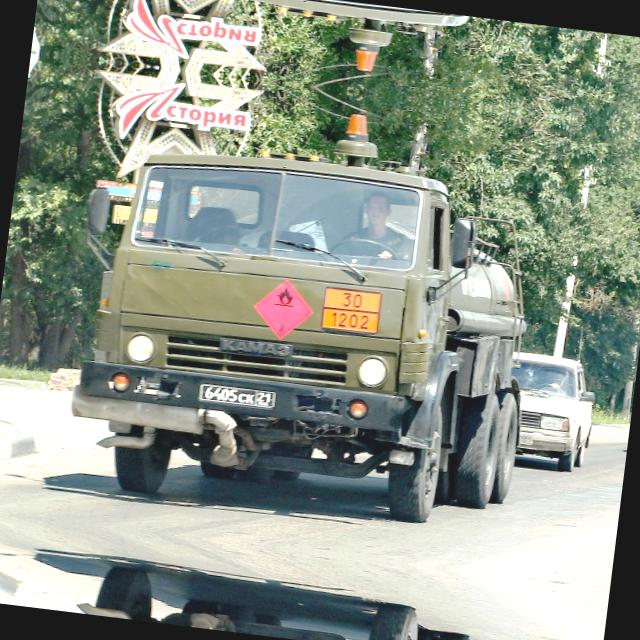military: (193, 375, 280, 412)
